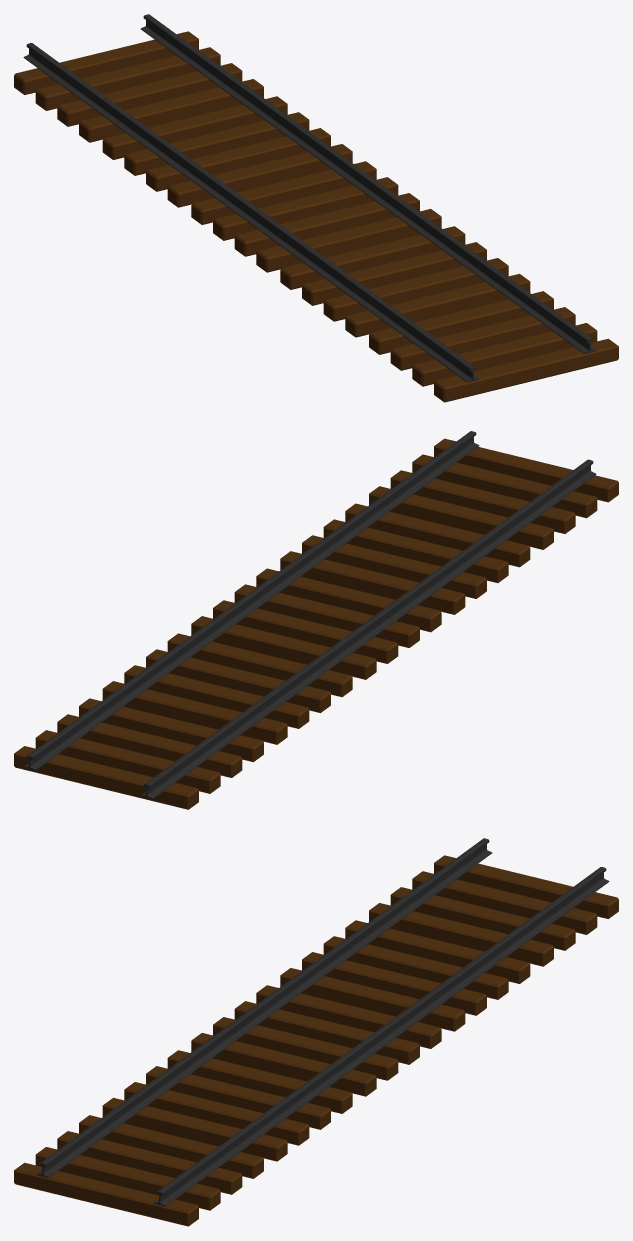
Rendered from 5rails.gltf.
3 renders of one model, top to bottom at view 1: azimuth 30°, elevation 25°; view 2: azimuth 150°, elevation 25°; view 3: azimuth 330°, elevation 25°, orthographic.
Visible parts, largest first — view 1: Track; view 2: Track; view 3: Track.
Part boxes in pixels (box(x1,y1,x2,y2)): Track: box(14, 14, 618, 402); Track: box(14, 431, 618, 809); Track: box(14, 838, 618, 1226).
Bounding box in the file's own units: 2.89 × 0.4456 × 12.61.
